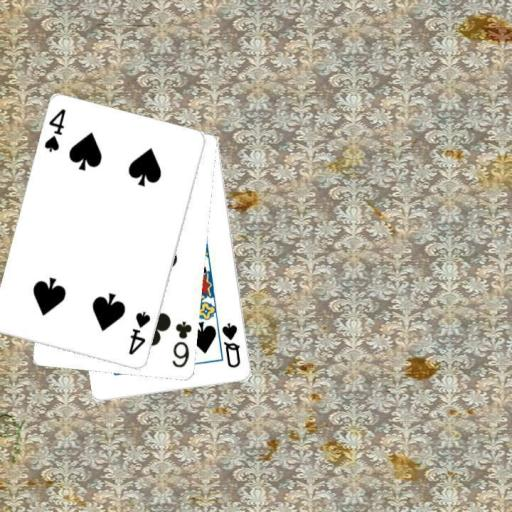card-corner: (169, 318, 194, 370), (41, 106, 68, 154), (126, 309, 152, 357), (219, 320, 243, 370)
